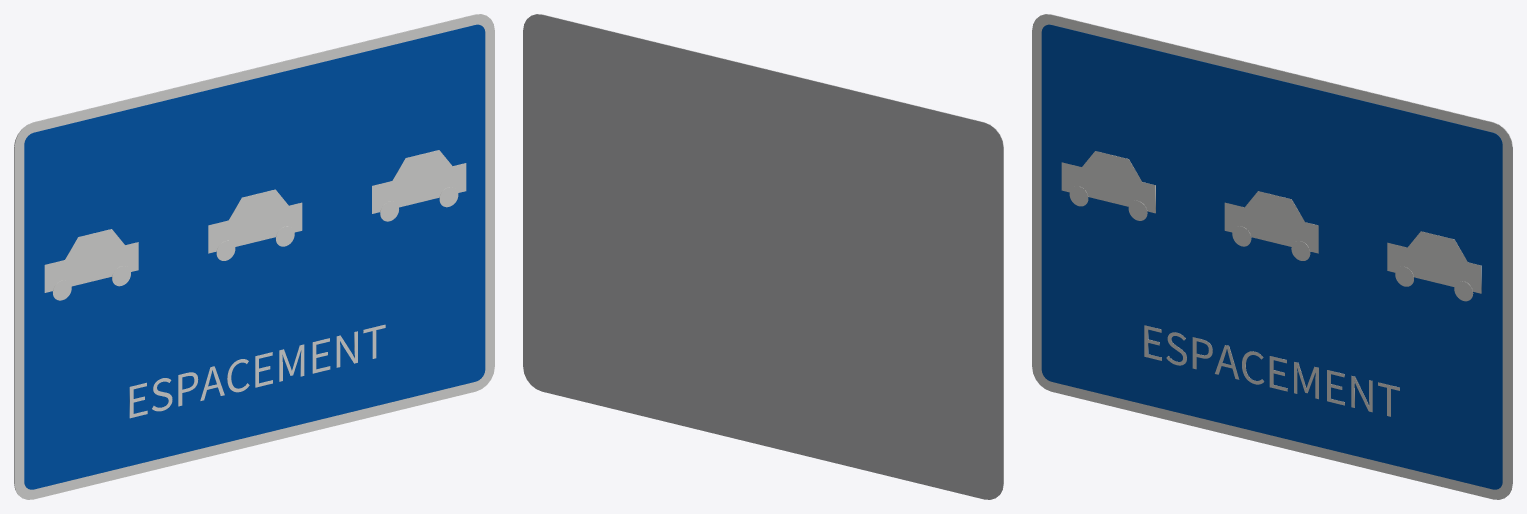
The picture shows the model from 3 angles, left to right: view 1: azimuth 30°, elevation 25°; view 2: azimuth 150°, elevation 25°; view 3: azimuth 330°, elevation 25°; orthographic projection.
Parts seen in each view (by area): view 1: SR2c_r01, SR2c_r00, SR2c_txt14, SR2c_p02, SR2c_p06, SR2c_p10, SR2c_p07, SR2c_p11, SR2c_p03, SR2c_dos; view 2: SR2c_dos; view 3: SR2c_r01, SR2c_r00, SR2c_txt14, SR2c_p02, SR2c_p06, SR2c_p10, SR2c_p07, SR2c_p11, SR2c_p03, SR2c_dos.
Boxes of the visible parts, x1,y1,x2,y2 form: SR2c_r01: (24, 24, 485, 489); SR2c_r00: (14, 14, 494, 499); SR2c_txt14: (129, 324, 385, 418); SR2c_p02: (44, 242, 138, 292); SR2c_p06: (208, 202, 302, 253); SR2c_p10: (372, 163, 466, 213); SR2c_p07: (228, 189, 288, 220); SR2c_p11: (392, 150, 452, 180); SR2c_p03: (65, 229, 124, 259); SR2c_dos: (14, 14, 483, 493); SR2c_dos: (523, 14, 1003, 499); SR2c_r01: (1041, 24, 1502, 489); SR2c_r00: (1032, 14, 1512, 499); SR2c_txt14: (1144, 325, 1399, 416); SR2c_p02: (1061, 162, 1155, 213); SR2c_p06: (1224, 202, 1318, 253); SR2c_p10: (1387, 242, 1481, 293); SR2c_p07: (1245, 191, 1304, 222); SR2c_p11: (1408, 231, 1467, 262); SR2c_p03: (1082, 151, 1141, 181); SR2c_dos: (1043, 14, 1512, 493).
Size of the model in its own units: 1 by 0.75 by 0.0073.
